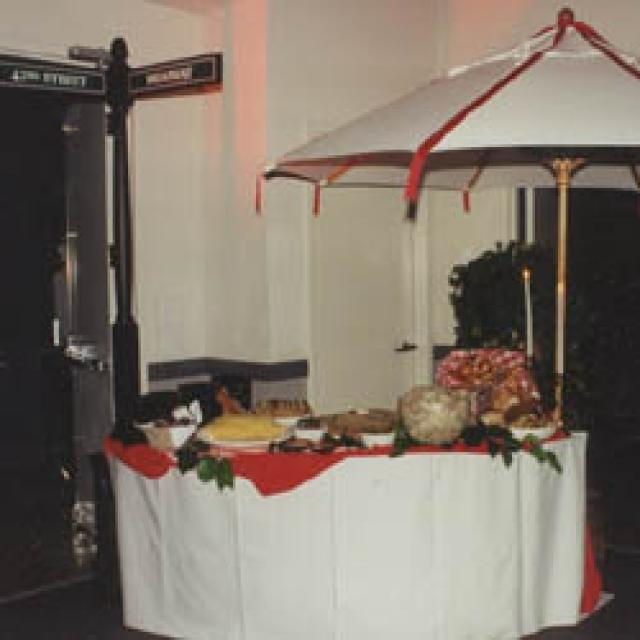bowl -X: (394, 389, 466, 444)
dish -X: (195, 419, 292, 444)
floor -X: (0, 539, 637, 635)
food procesor: (207, 419, 279, 436)
sign: (0, 33, 218, 430)
table -X: (108, 398, 607, 637)
umbrella crop: (256, 3, 635, 422)
wall clock: (225, 0, 635, 561)
